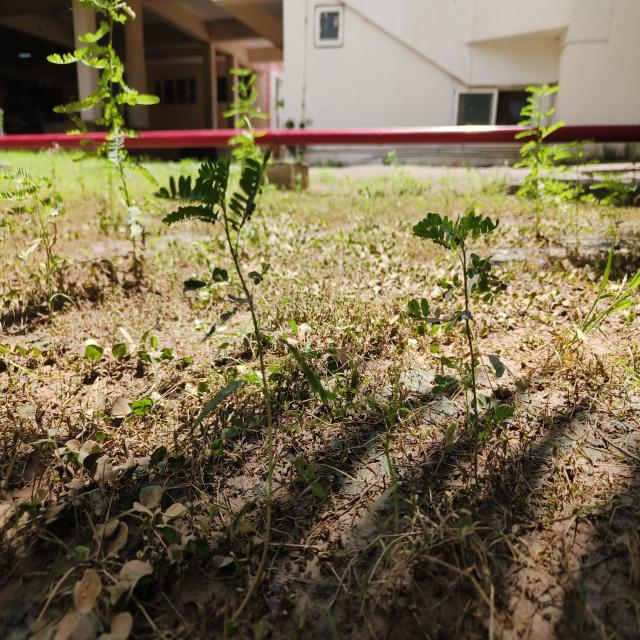weed: (153, 135, 287, 506), (405, 213, 514, 466)
